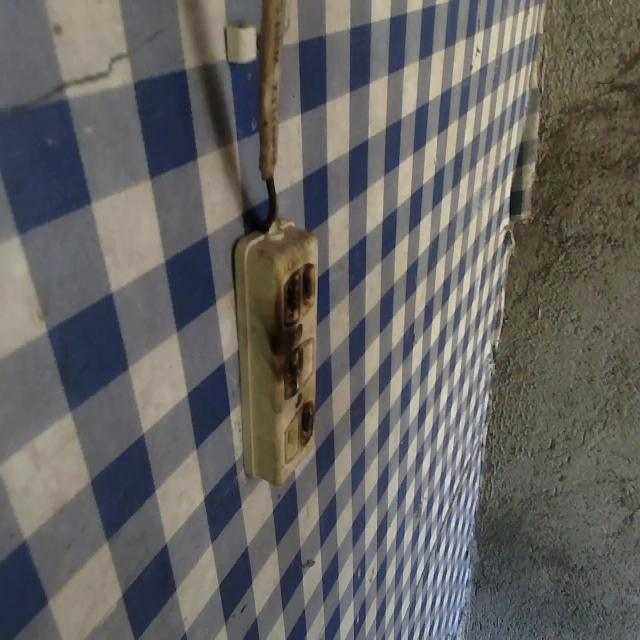-: (280, 258, 318, 322), (279, 342, 301, 394), (298, 401, 314, 444)
